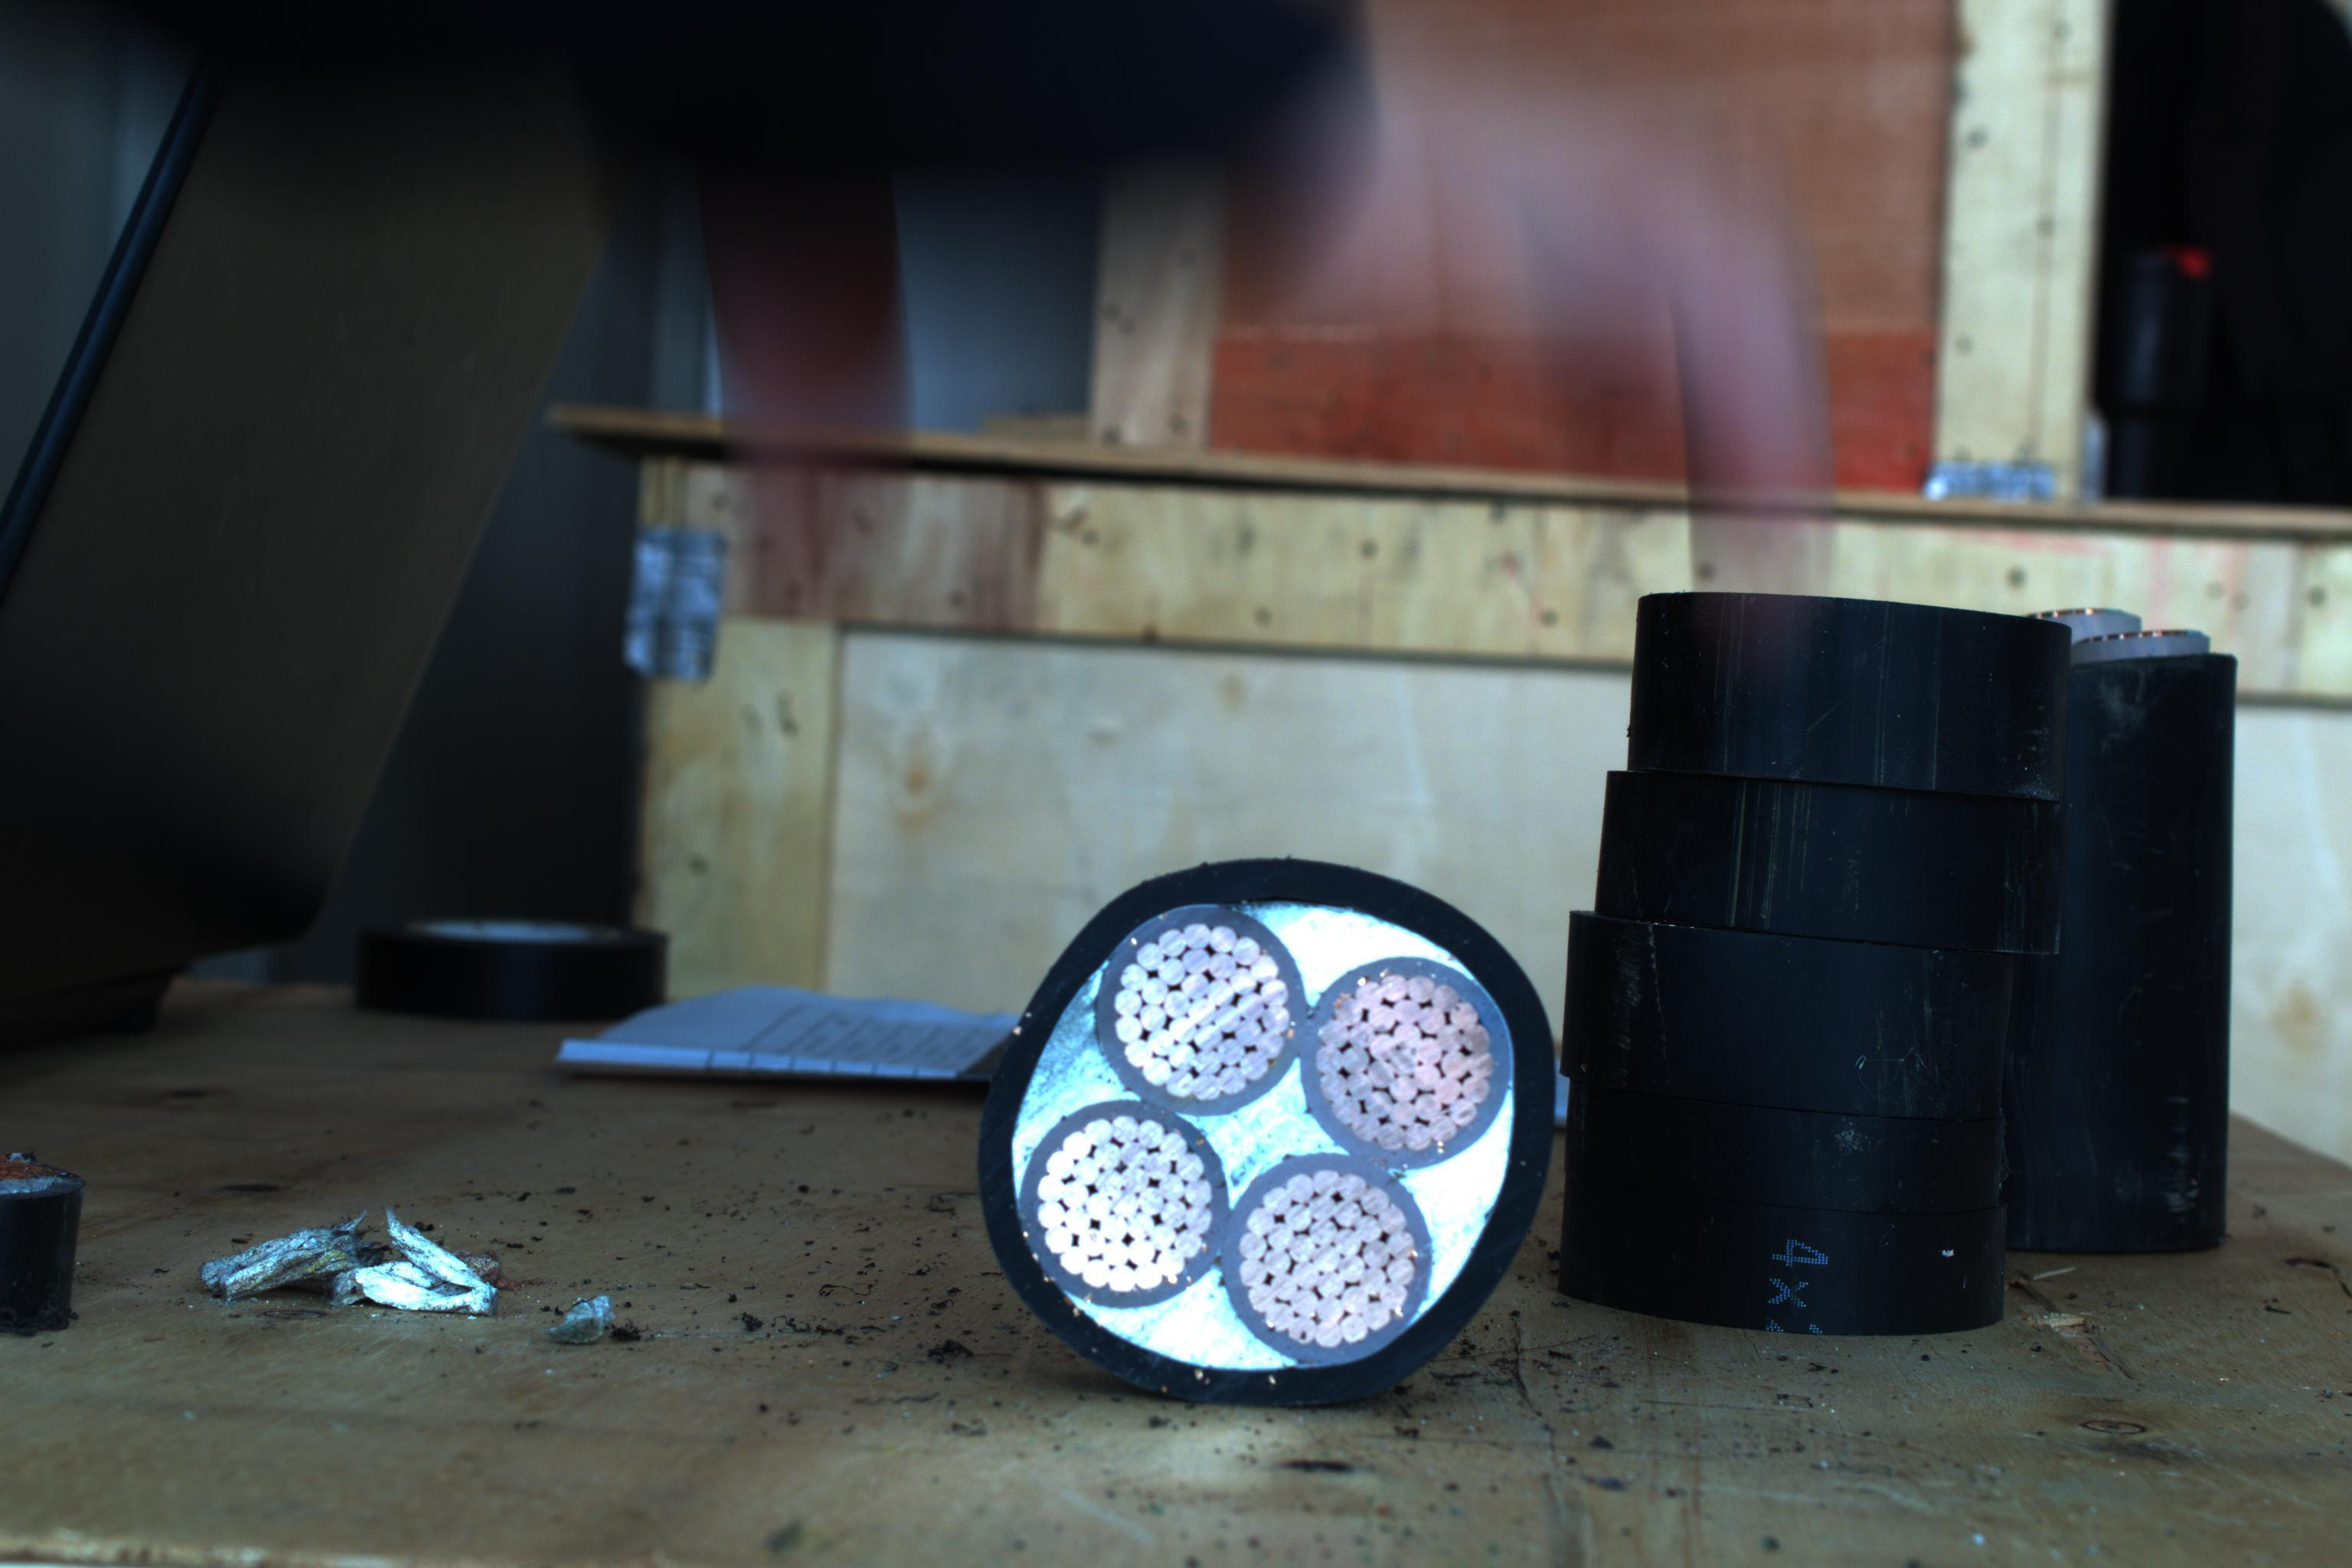YJV_0.6_1kV_4x240: (980, 833, 1556, 1410)
